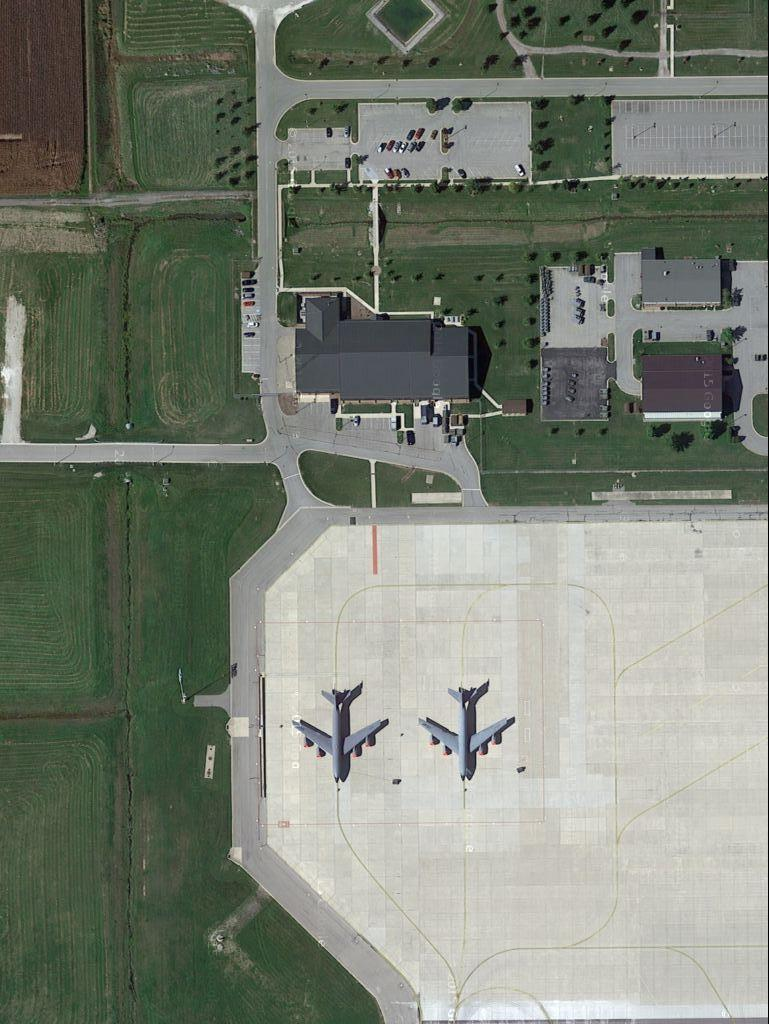KC-135: (290, 679, 392, 792), (415, 677, 513, 790)
